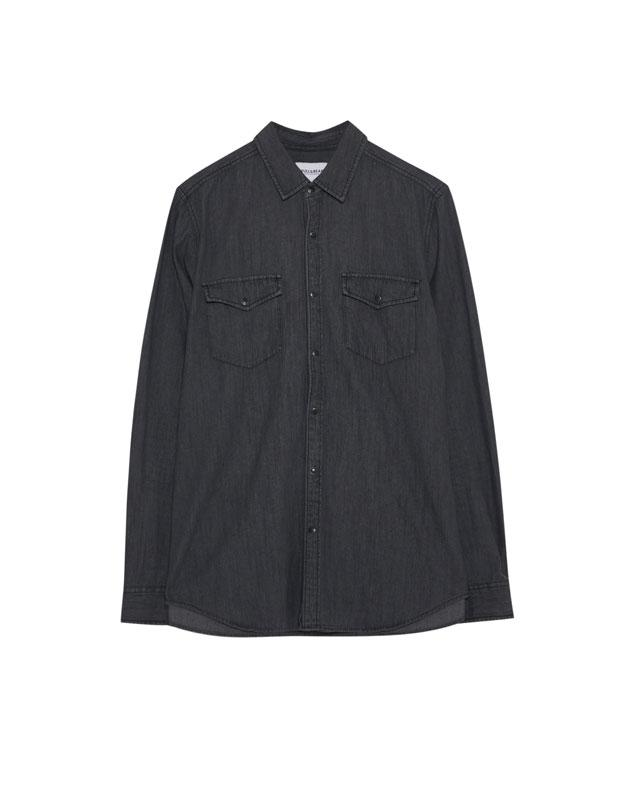teeshirt: (119, 112, 516, 644)
